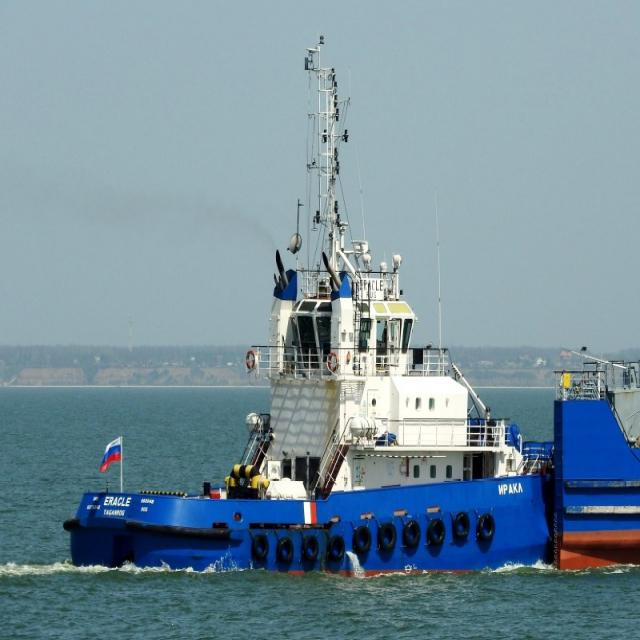tugboat: (62, 234, 569, 593)
